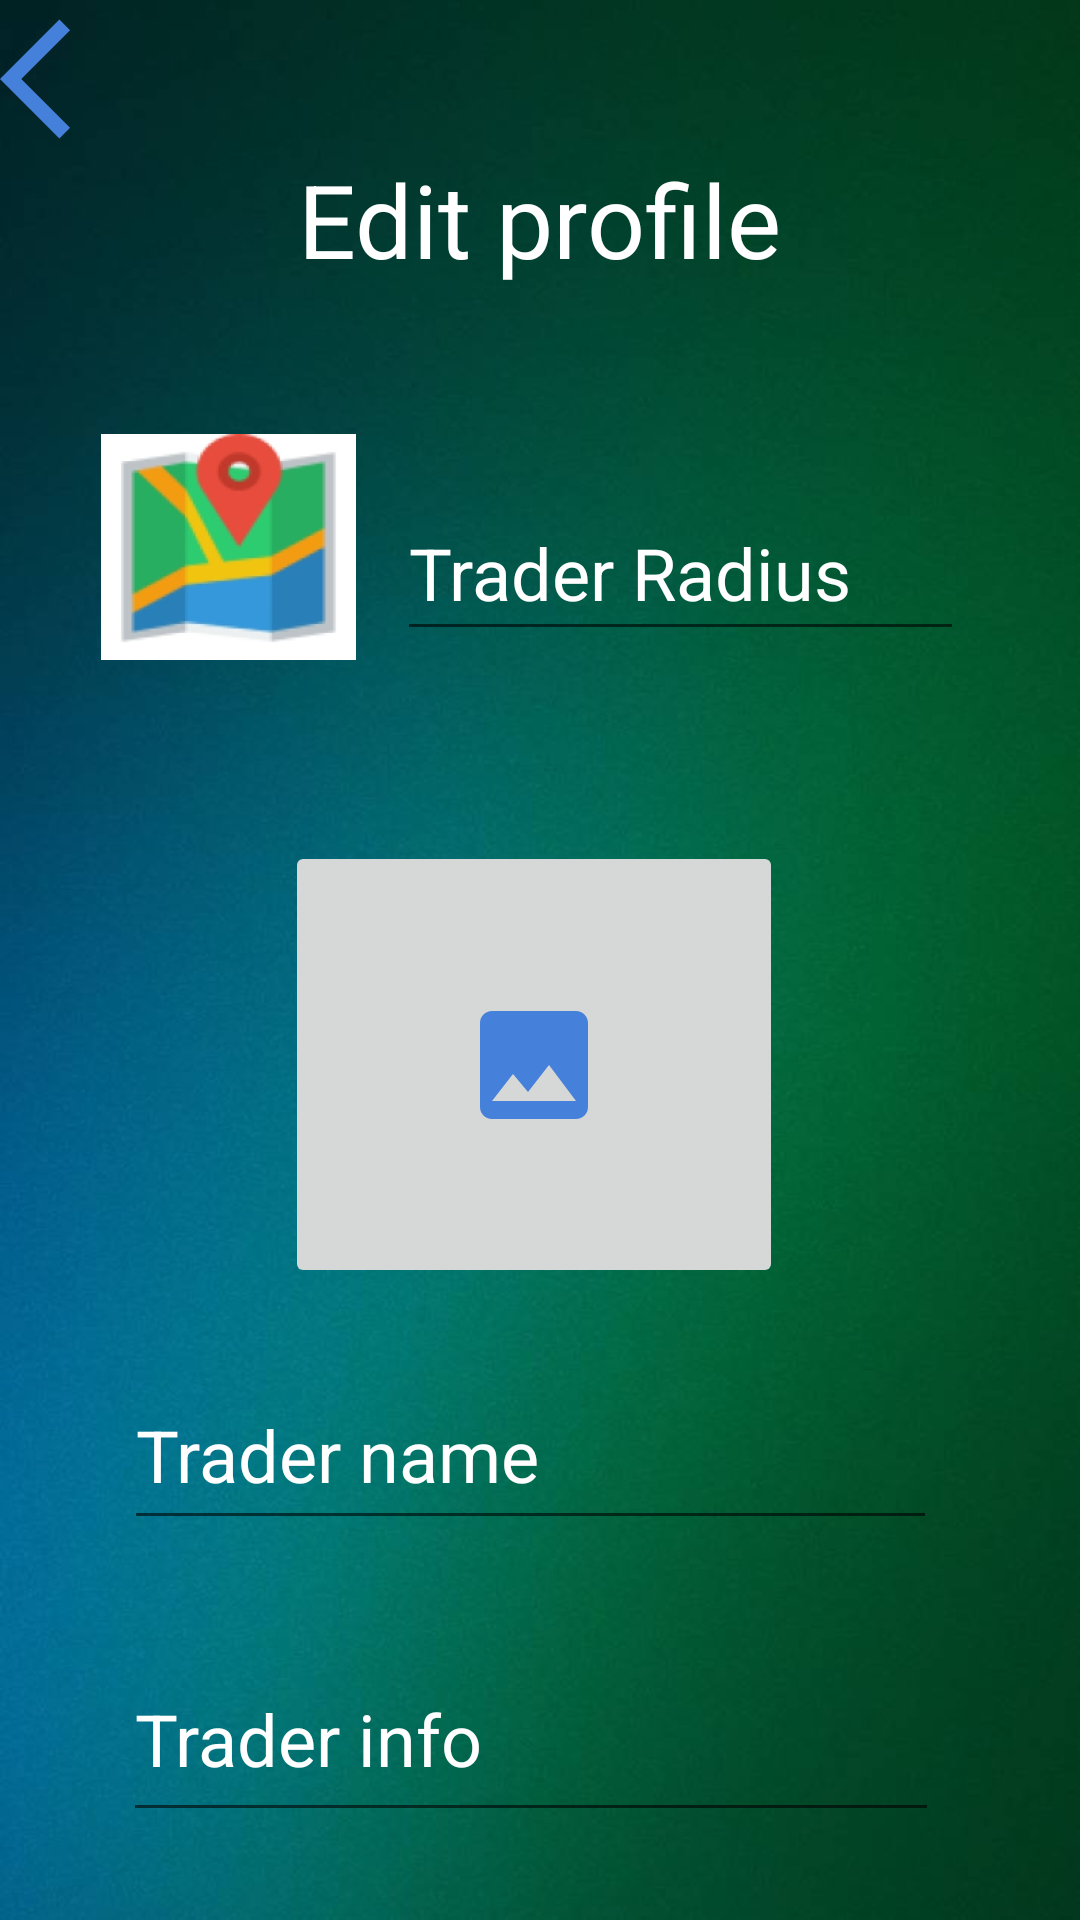

Where icons sit on this 1080x1920 app screen, as {"x1": x1, "y1": y1, "x2": x2, "y2": y2}:
arrow back: {"x1": 0, "y1": 19, "x2": 70, "y2": 139}
